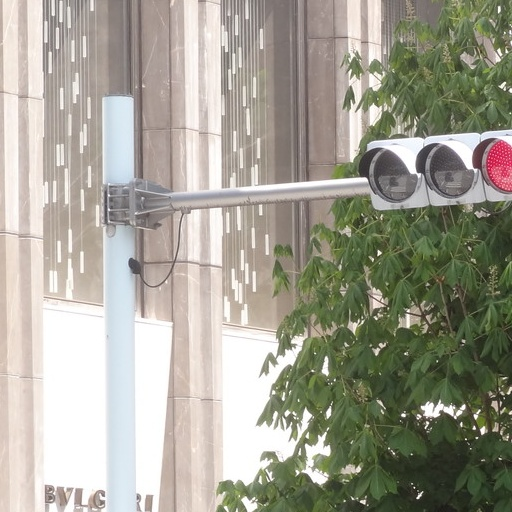Traffic_Signal_Red: (360, 125, 510, 207)
